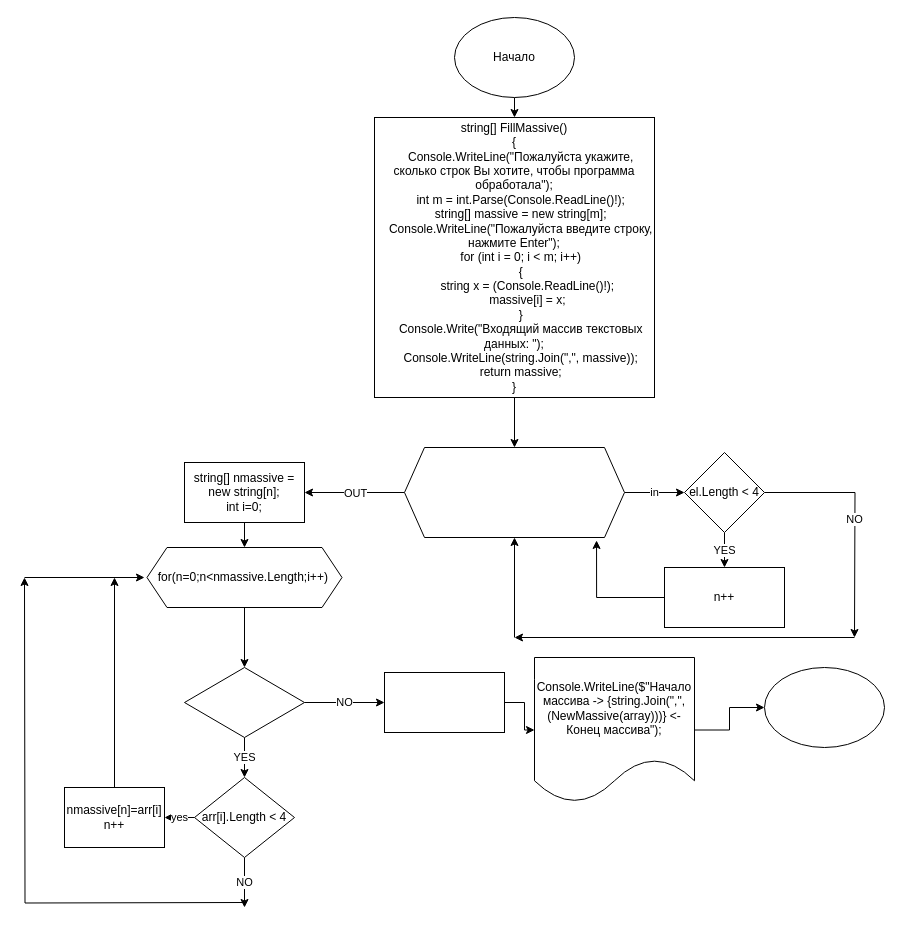
This 902x933 diagram has some shape labels left out. The centre of each missing label's shape, as x and y in pixels:
"n<nmassive.Length" goes at [244,702].
"return nmassive" goes at [444,702].
"string [] NewMassive(string[] arr) int n=0; foreach (string el in arr)" goes at [514,492].
"КОНЕЦ" goes at [824,707].
